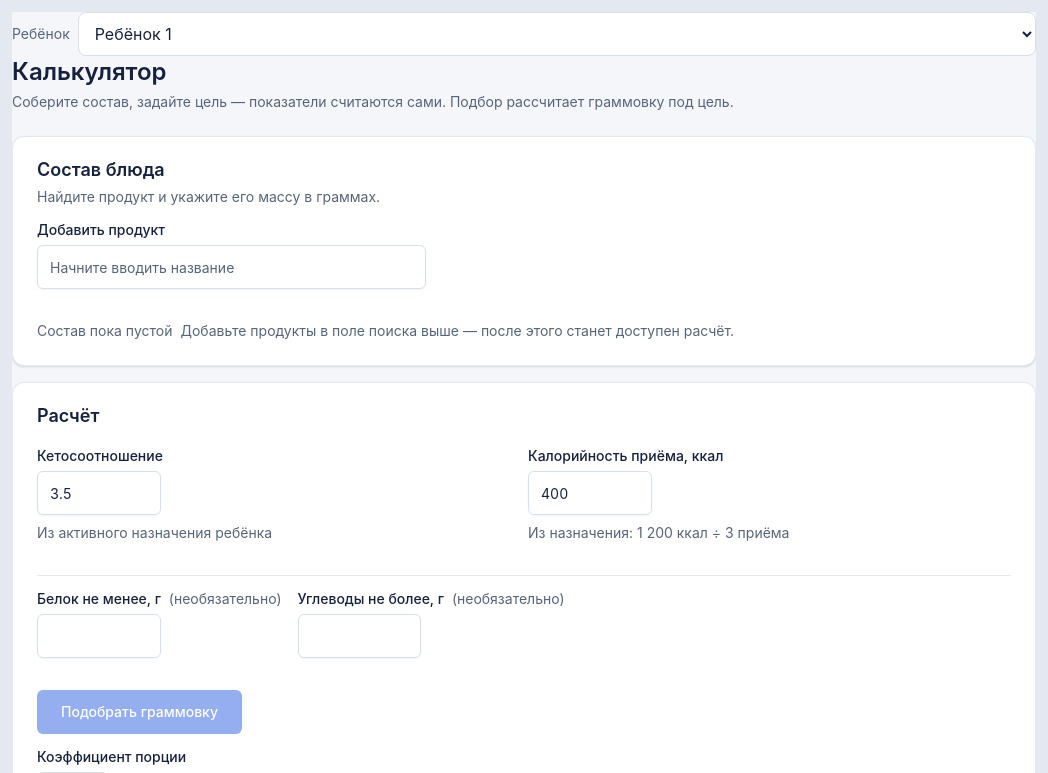
кабинет семьи: смена ребёнка в шапке › калькулятор берёт цель нового ребёнка, а не держит прежнюю
Expected: the number field labelled "Кетосоотношение" holds "3.5", [37,471,161,515]
Select "Ребёнок 2" in the dropdown labelled "Ребёнок" at (557, 34), box [78,12,1036,56]
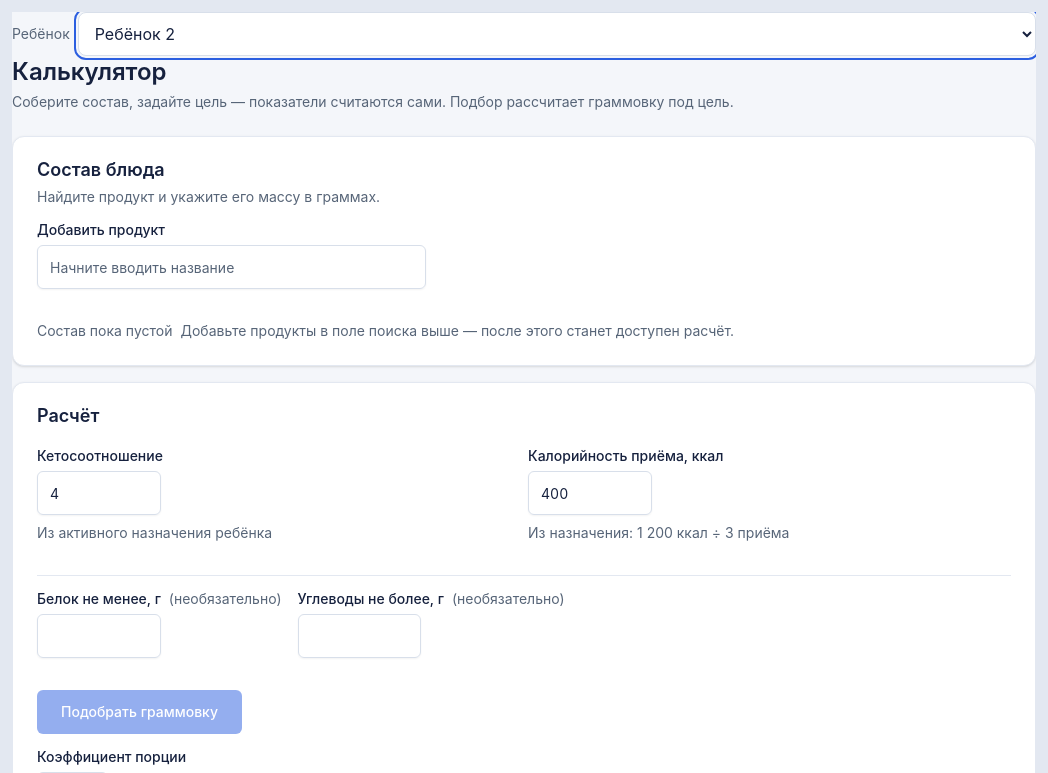
Expected: the number field labelled "Кетосоотношение" holds "4", [37,471,161,515]
